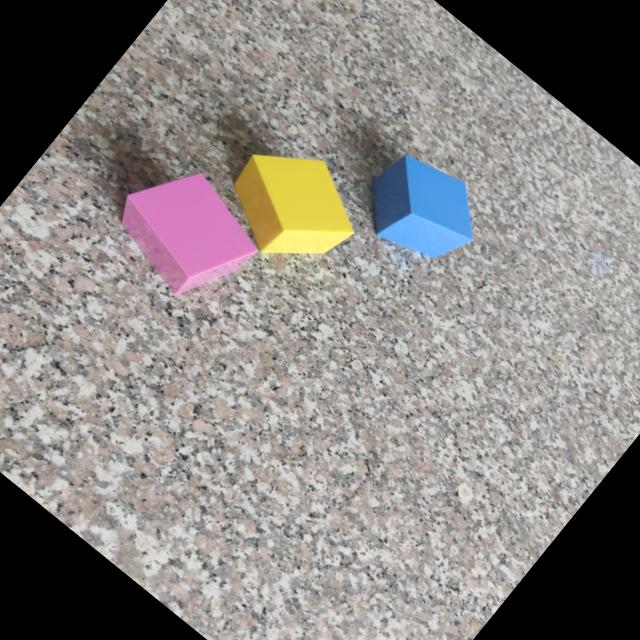blue: (370, 156, 471, 260)
pink: (119, 176, 258, 297)
yellow: (233, 155, 351, 256)
